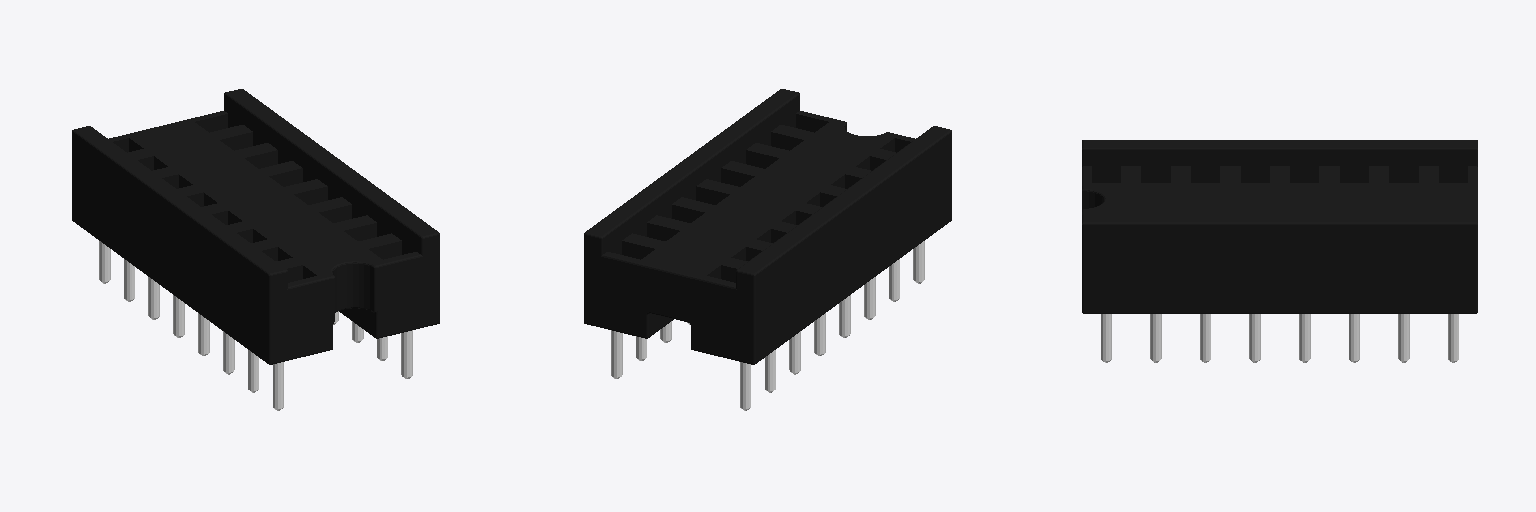
Rendered from IC_Sockel_16P.obj.
The picture shows the model from 3 angles: view 1: azimuth 30°, elevation 25°; view 2: azimuth 150°, elevation 25°; view 3: azimuth 270°, elevation 25°; orthographic projection.
Parts seen in each view (by area): view 1: Volumenkörper1; view 2: Volumenkörper1; view 3: Volumenkörper1.
Boxes of the visible parts, <box> form: Volumenkörper1: <box>72,89,439,410</box>; Volumenkörper1: <box>584,89,951,410</box>; Volumenkörper1: <box>1082,140,1477,362</box>.
Size of the model in its own units: 10.16 by 8.46 by 20.32.